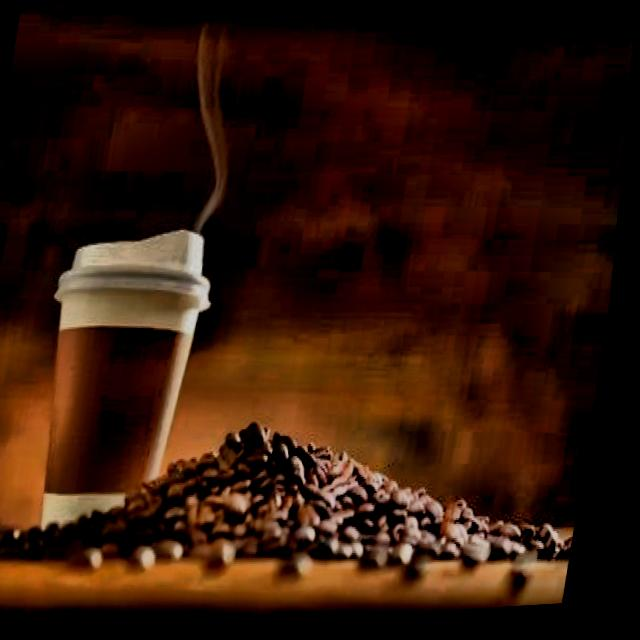Cup: (35, 234, 214, 553)
